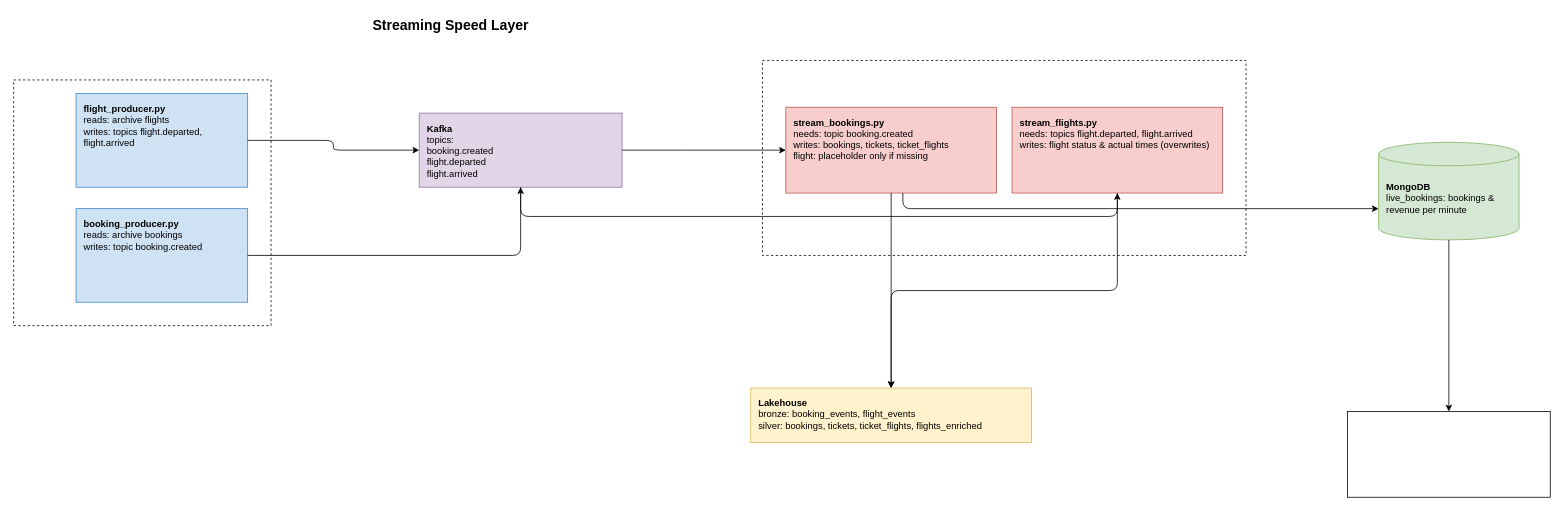
This 1564x511 diagram has some shape labels left out. Here are the shapes that lost their labels. From the top down, the box of each, then its label:
(762, 60, 1246, 255): Spark Structured Streaming
(13, 79, 271, 326): Producers
(1347, 411, 1550, 497): Dashboard Overview tab, every 5s
